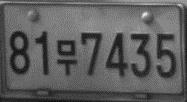1: (34, 30, 51, 76)
3: (129, 32, 153, 78)
4: (103, 31, 128, 79)
5: (154, 32, 177, 78)
7: (80, 31, 102, 76)
8: (8, 29, 30, 74)
무: (55, 38, 78, 77)
